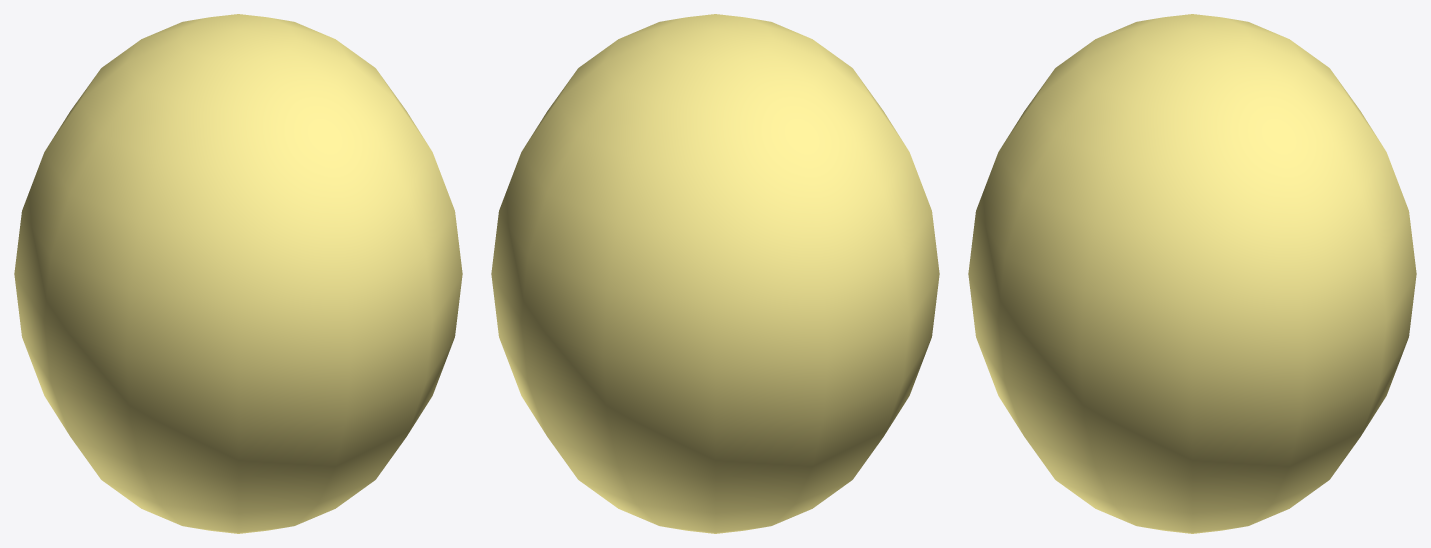
Rendered from Caudalume_stage2.obj.
3 renders of one model, left to right at view 1: azimuth 30°, elevation 25°; view 2: azimuth 150°, elevation 25°; view 3: azimuth 270°, elevation 25°, orthographic.
Size of the model in its own units: 2 by 2.4 by 2.
